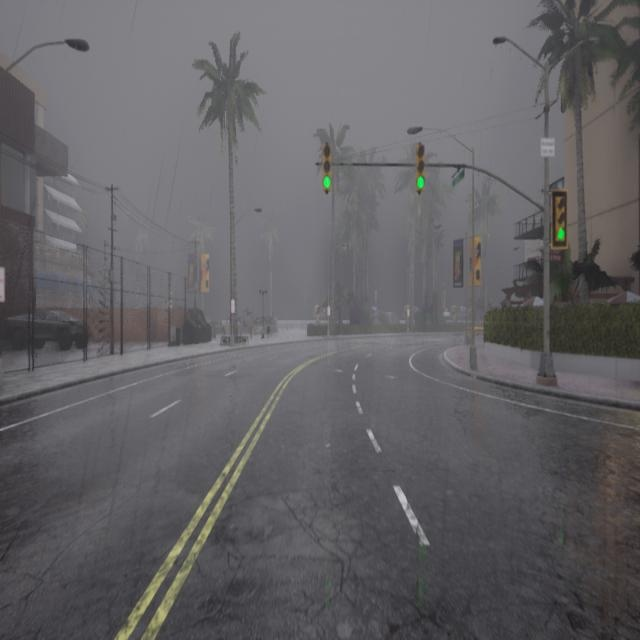bien_chi_dan: (548, 186, 570, 248), (320, 140, 334, 195), (417, 142, 428, 196), (550, 222, 569, 244), (318, 172, 334, 193), (415, 175, 426, 190)
